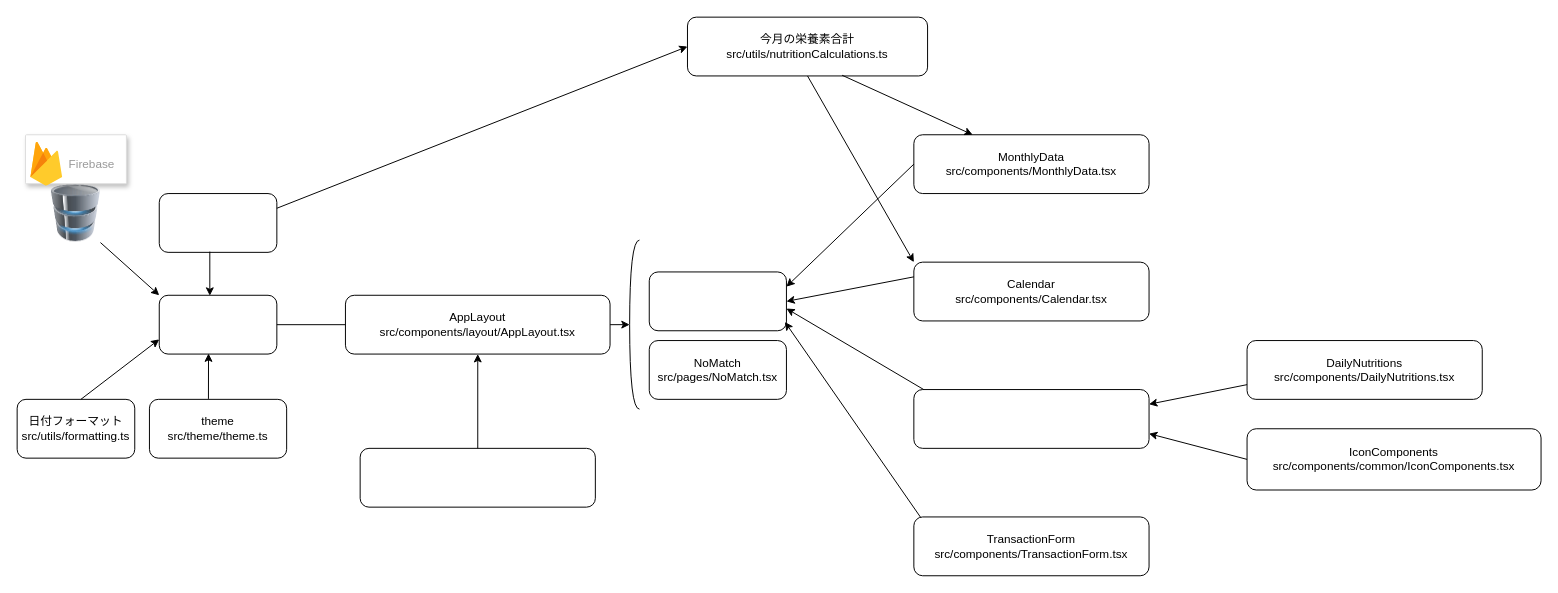
Image size: 1558x593. Some labels were removed from this diagram. The centre of each missing label's shape, as x and y in pixels:
App.tsx src/App.tsx: the point at 217,324
Home src/pages/Home.tsx: the point at 717,301
Sidebar src/components/common/Sidebar.tsx: the point at 477,477
TransactionMenu src/components/TransactionMenu.tsx: the point at 1031,418
データの型 src/types/index.ts: the point at 217,222
